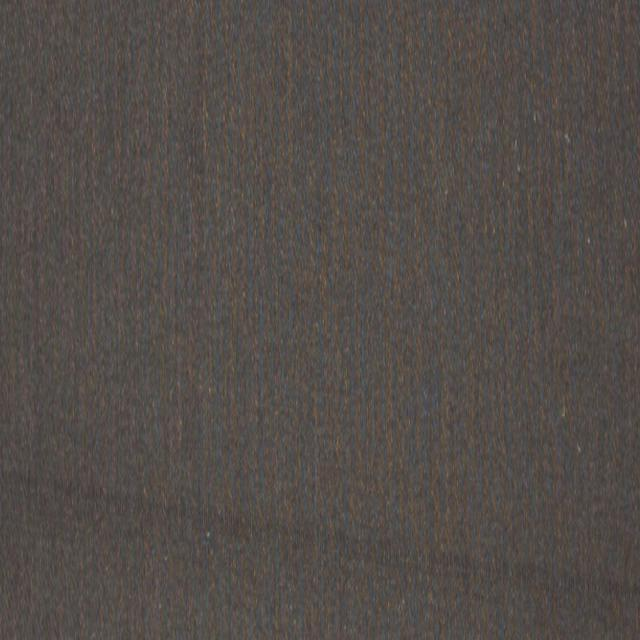Line: (0, 462, 640, 617)
